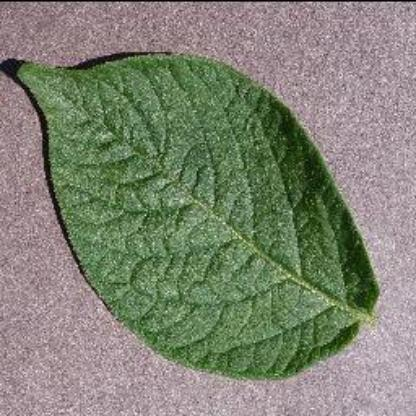Healthy-plant: (10, 28, 390, 394)
